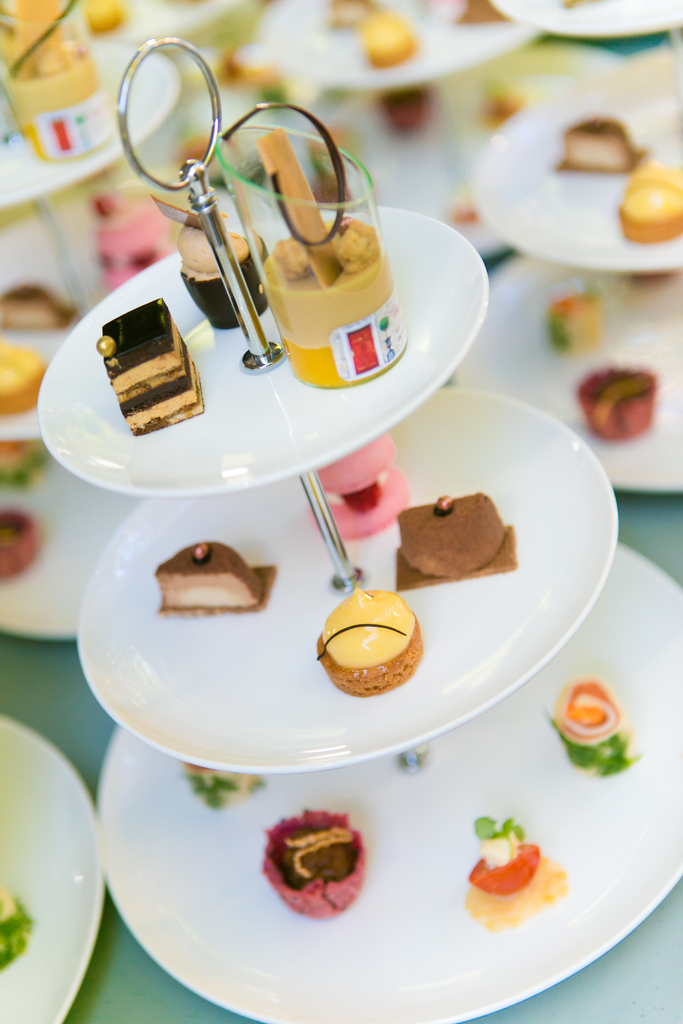plate: (93, 545, 682, 1023)
